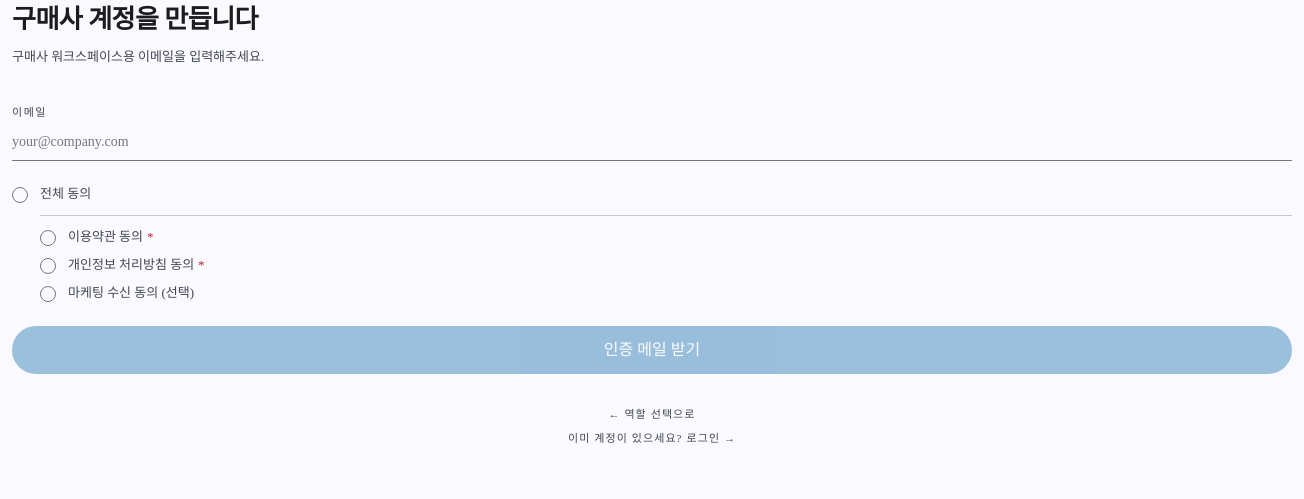
BuyerSignupEmailPage — EMAIL_TAKEN 안내 › 다른 에러 시 일반 에러 메시지를 표시한다
The image size is (1304, 499).
Type "kim@example.com" into the field labelled "이메일" at coordinates (652, 142), box [12,122,1292,160]
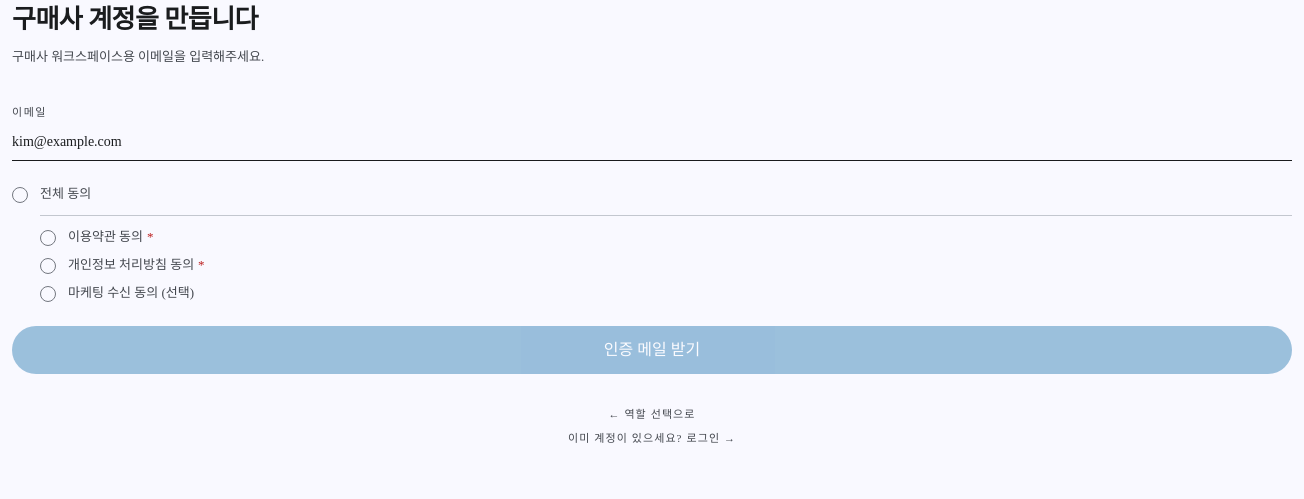
Click the checkbox labelled "이용약관 동의*" at coordinates (97, 237), box [40,228,154,246]
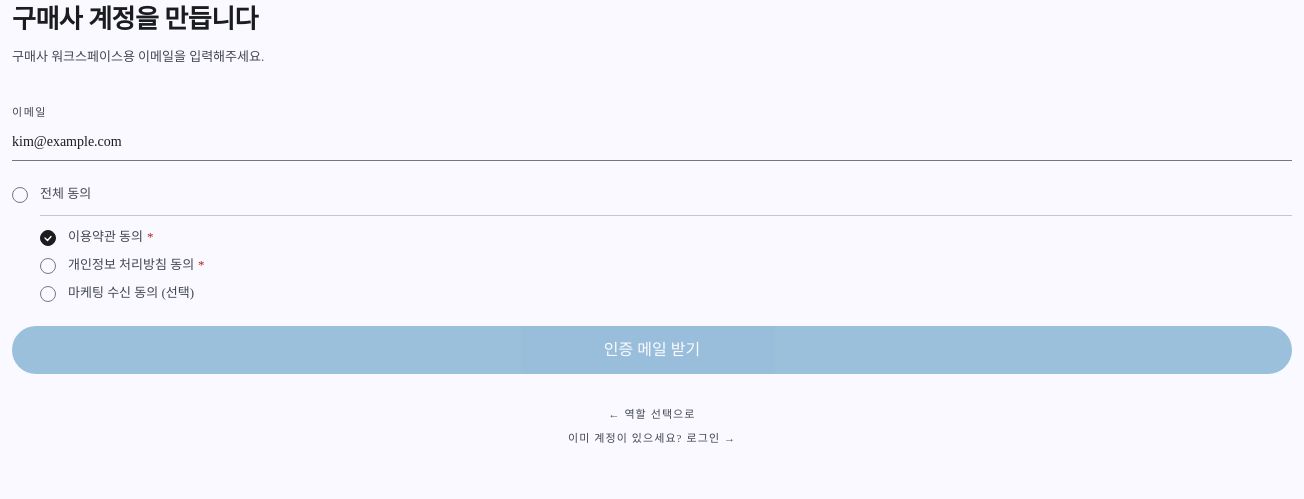
Click the checkbox labelled "개인정보 처리방침 동의*" at coordinates (122, 265), box [40,256,205,274]
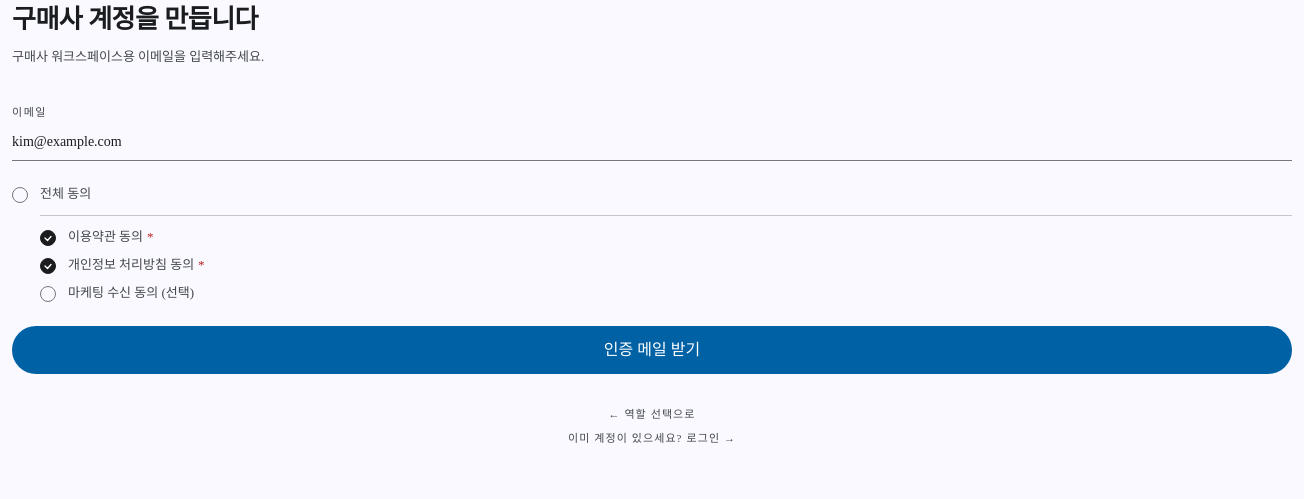
Submit the form, box [12,98,1292,374]
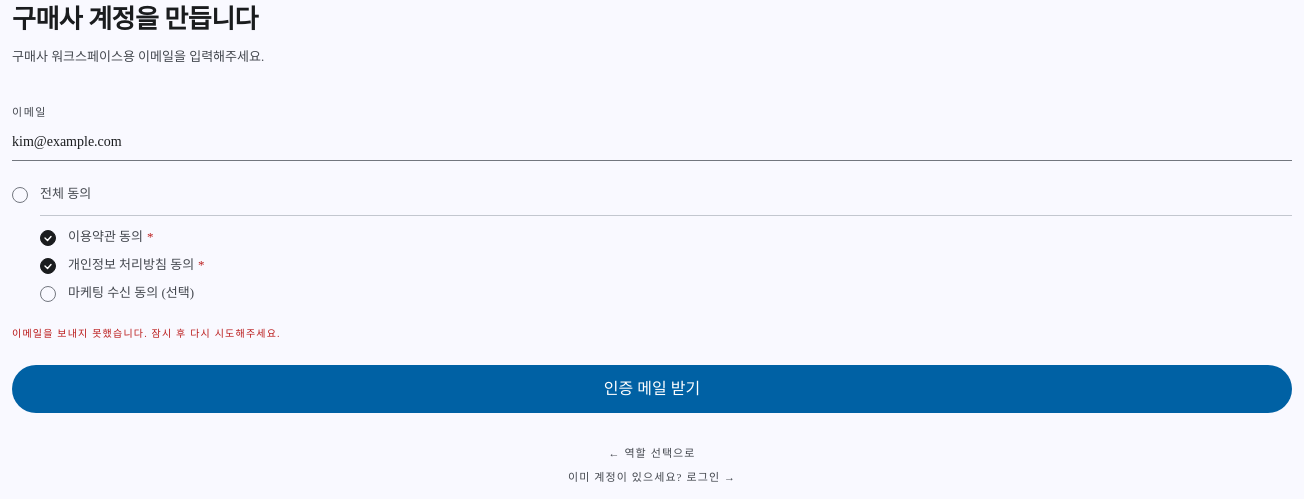
Expected: the message "이메일을 보내지 못했습니다. 잠시 후 다시 시도해주세요." is shown, [12,328,281,338]
